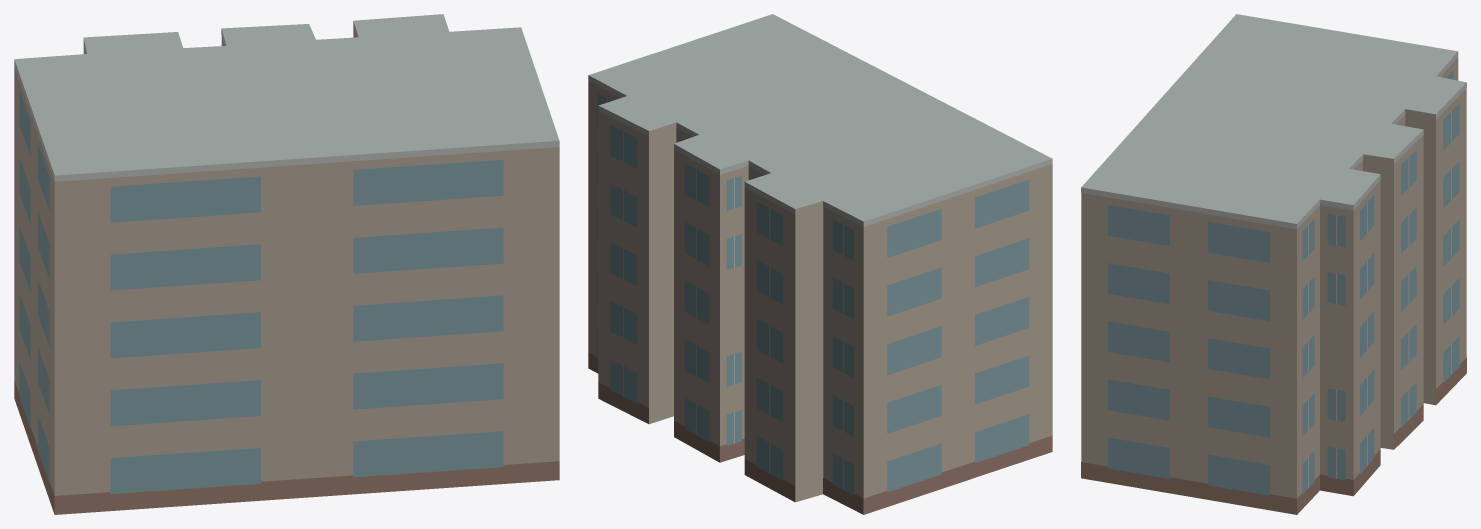
The model's file is survey-upis-32724839.glb.
3 views of the same model, side by side, from view 1: azimuth 30°, elevation 25°; view 2: azimuth 150°, elevation 25°; view 3: azimuth 270°, elevation 25° (orthographic). The views are drawn at different scales.
Parts seen in each view (by area): view 1: survey-upis-32724839.tmp; view 2: survey-upis-32724839.tmp; view 3: survey-upis-32724839.tmp.
Part boxes in pixels (x1,y1,x2,y2): survey-upis-32724839.tmp: (14, 14, 559, 514); survey-upis-32724839.tmp: (588, 14, 1052, 514); survey-upis-32724839.tmp: (1081, 14, 1466, 514).
Size of the model in its own units: 20.44 by 13.2 by 15.87.
